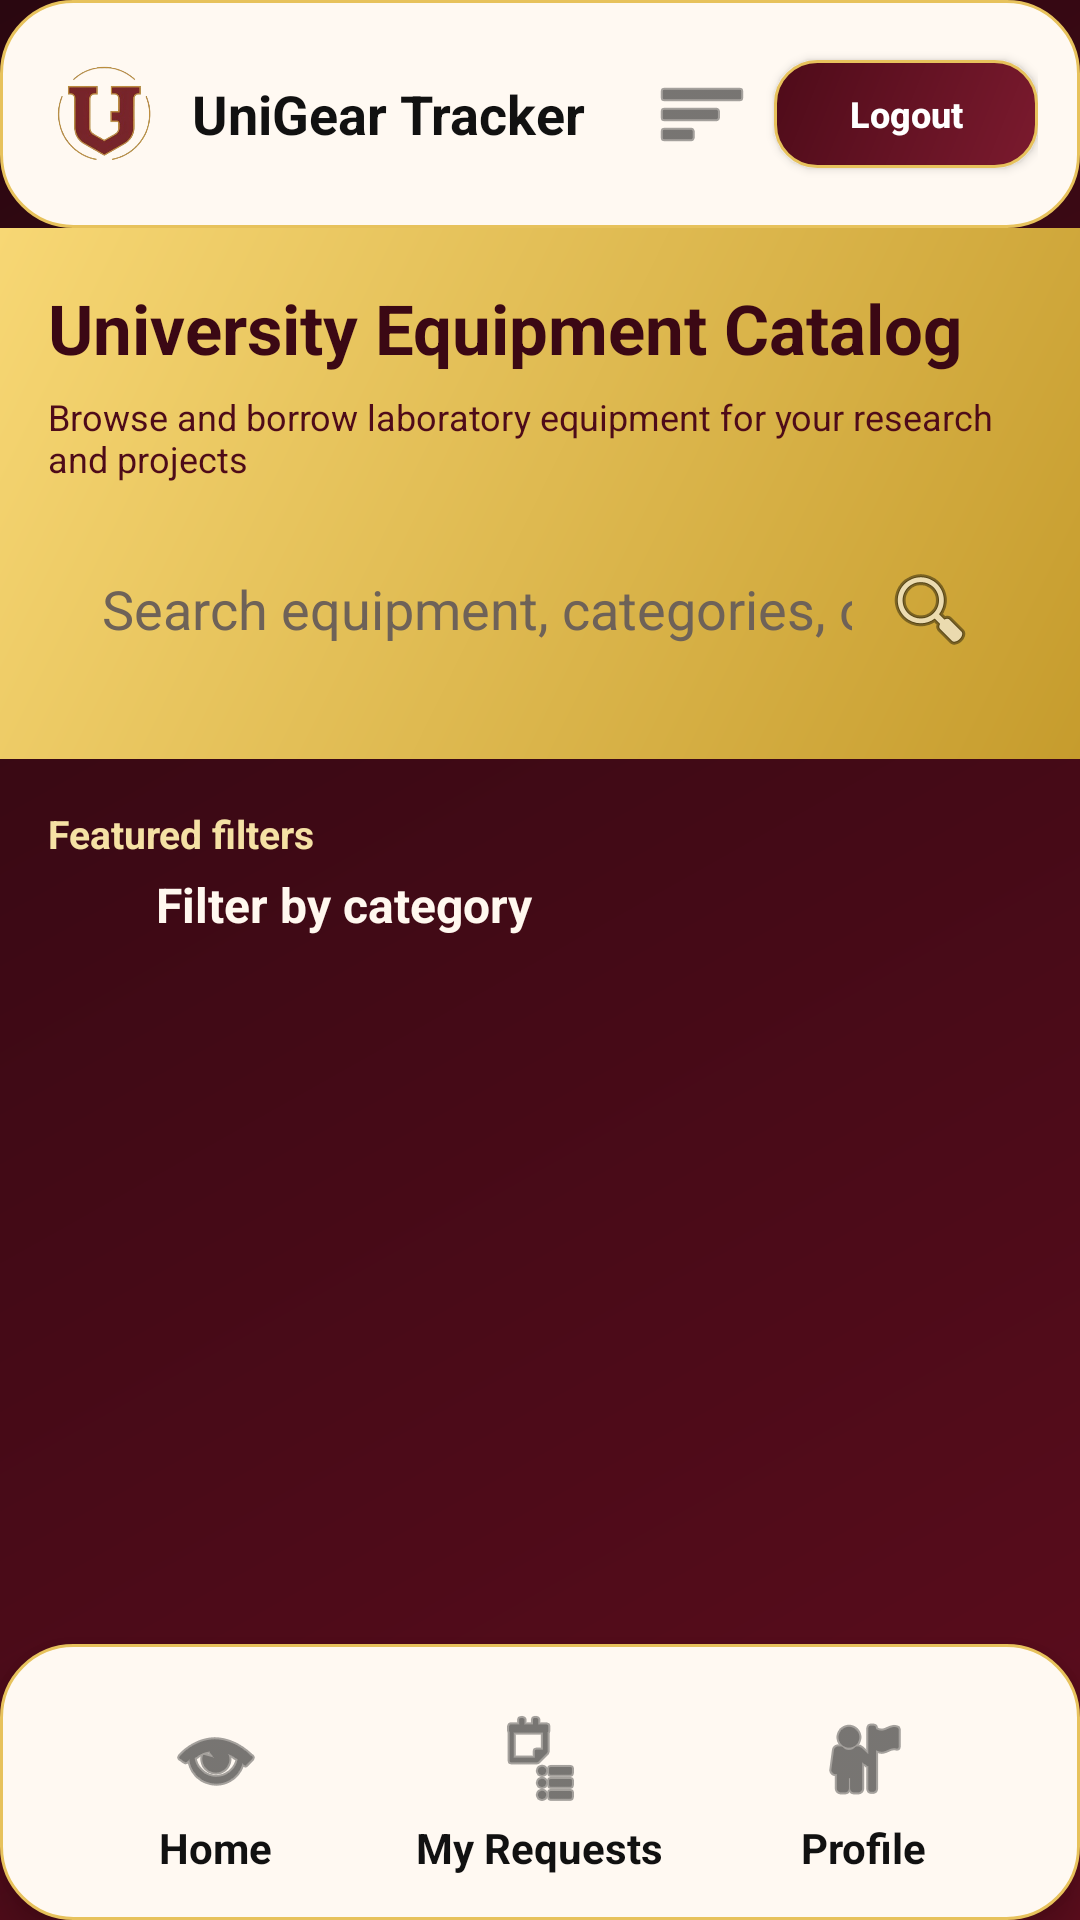

Icons on this 1080px×1920px Android screen, each with the point to tap as (x,y):
Menu: (702,114)
